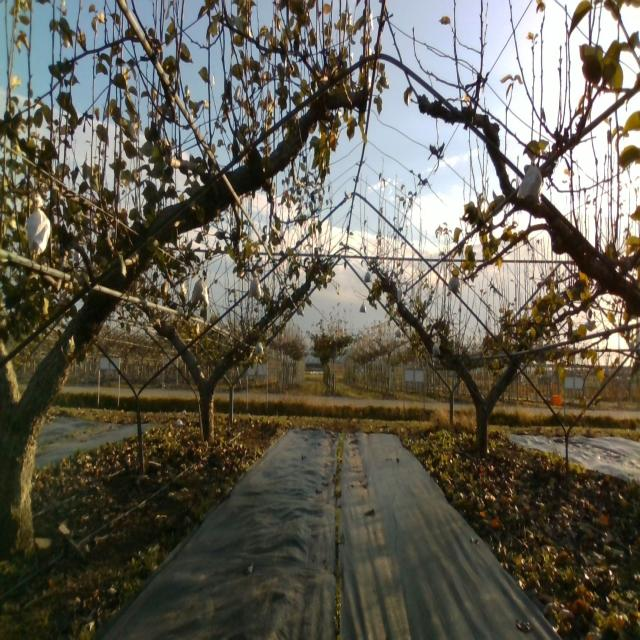pearbags: (27, 192, 52, 254), (516, 154, 543, 207), (191, 275, 210, 305), (248, 277, 263, 301), (447, 276, 460, 297)
